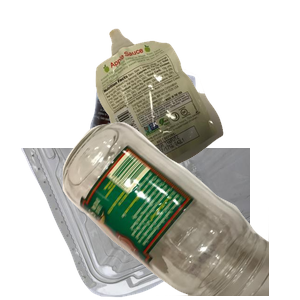glass: (60, 120, 300, 300)
metal: (78, 63, 266, 243)
plastic: (19, 148, 259, 300)
trash: (93, 26, 300, 200)
